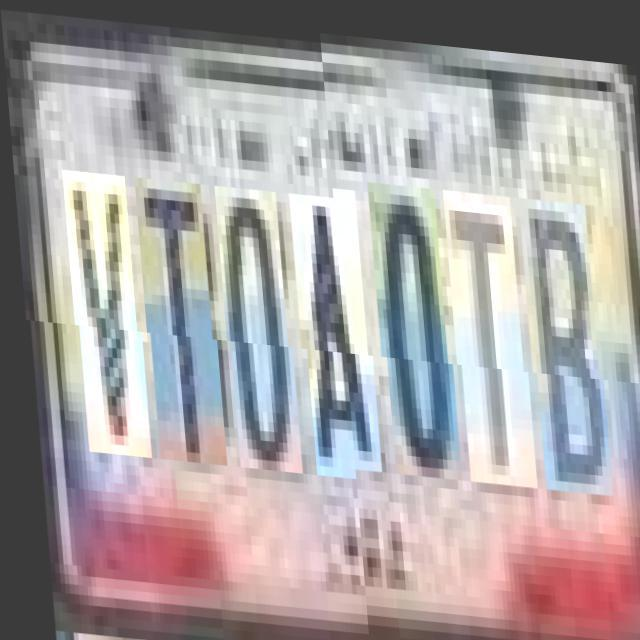A: (290, 188, 376, 474)
B: (522, 197, 606, 493)
O: (370, 184, 456, 480), (215, 182, 295, 468)
T: (446, 191, 531, 487), (135, 176, 220, 462)
V: (64, 170, 144, 456)
